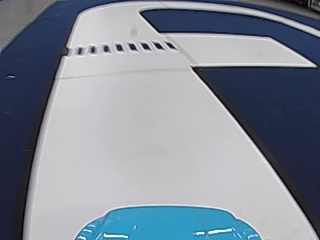CrossWalk: (71, 39, 179, 56)
